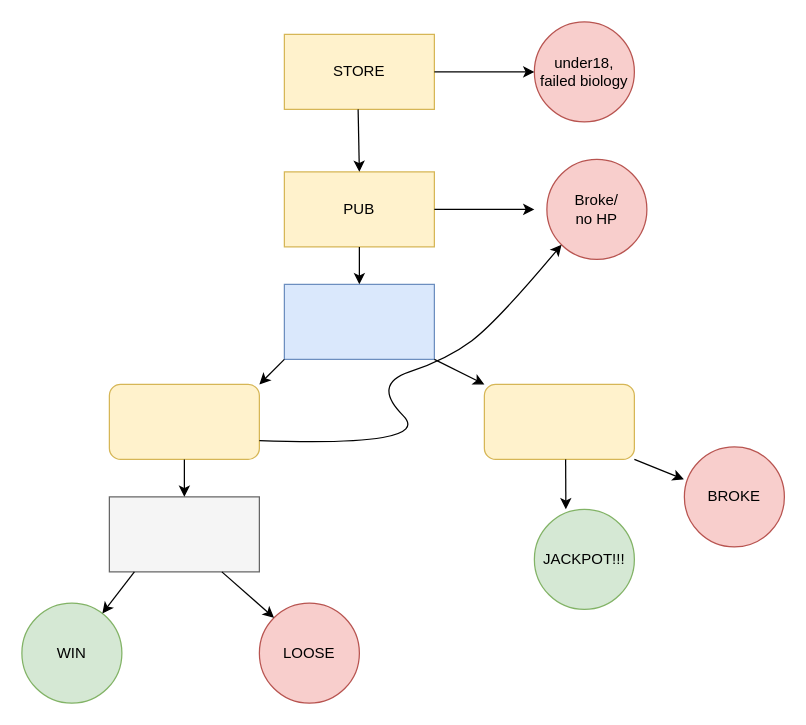
The diagram is 806 pixels wide and 725 high, and some of its shapes have lost their labels. Here are the shapes that lost their labels. From the top down, the centre of each, then its label:
At (358,321): "CLUB".
At (183,421): "DISCO".
At (558,421): "CASINO".
At (183,534): "FIGHT!".
